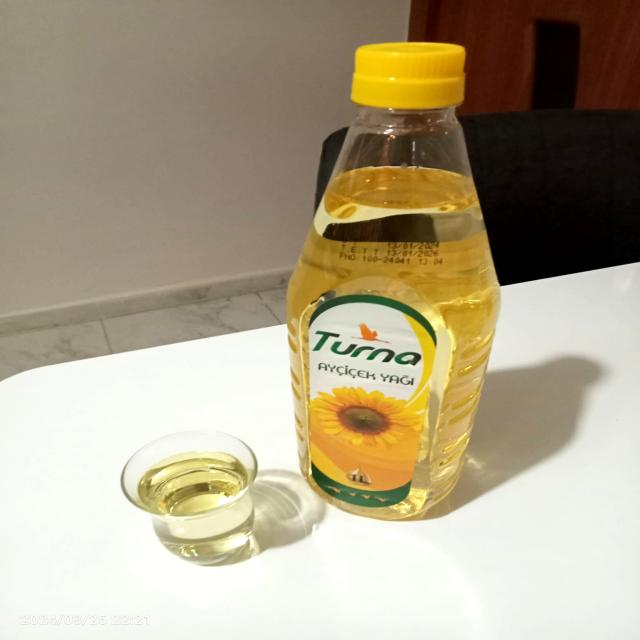olive oil: (285, 36, 497, 516), (124, 433, 274, 566)
